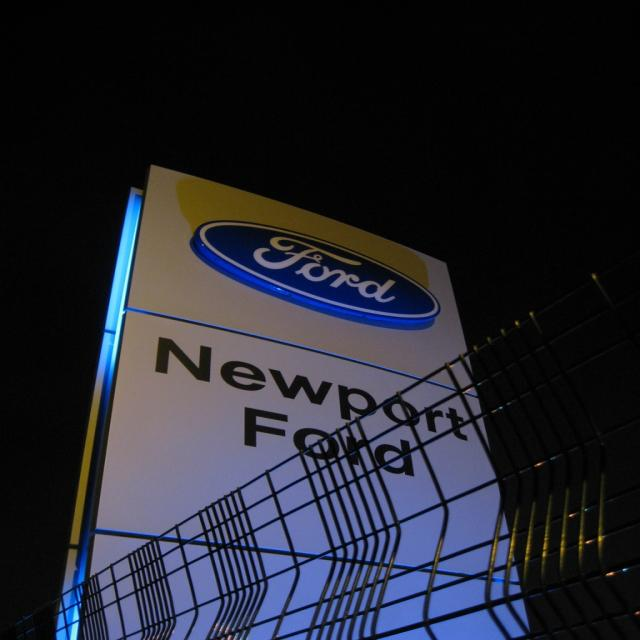ford: (188, 218, 446, 333)
